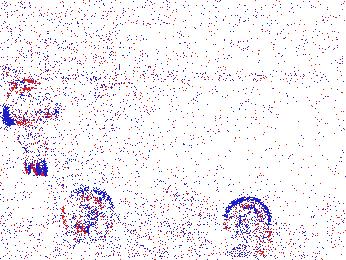flame jellyfish: (3, 80, 59, 177), (61, 187, 117, 246), (223, 198, 270, 243)
